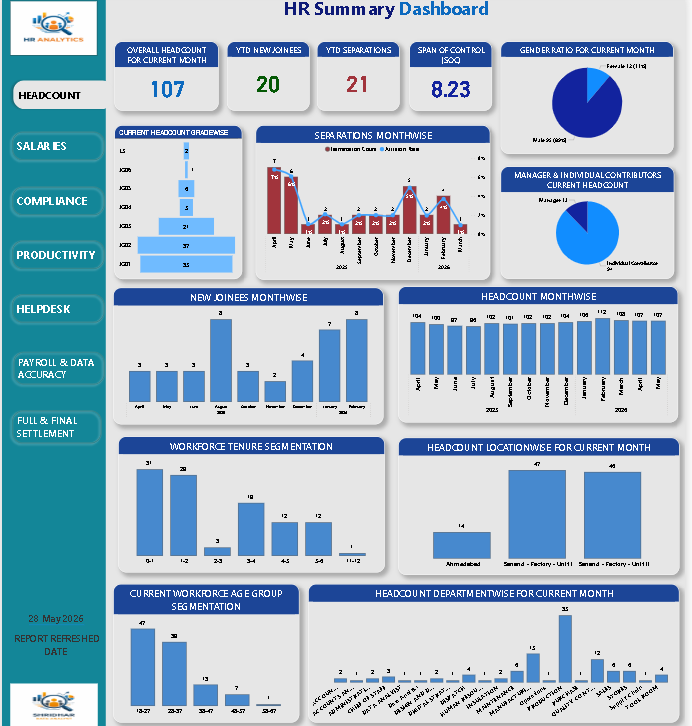

What the dashboard file says about the page in this screenshot:
{"tool":"powerbi","page":{"name":"Dashboard","canvas":[1650,1800],"ordinal":0},"visuals":[{"type":"shape","box":[0,0,250.4,1800.6],"z":0},{"type":"group","id":"g1","title":"Group 1","box":[267.8,113.9,1365,1642.2],"z":0,"group":"g4"},{"type":"card","title":"OVERALL HEADCOUNT FOR CURRENT MONTH","fields":{"Values":["Employee_Listing.Previous HC"]},"box":[271.5,114.1,251.3,166.9],"z":0,"group":"g1"},{"type":"actionButton","title":"Headcount AB","box":[17.2,199.5,259,87.6],"z":0,"group":"g2"},{"type":"card","title":"YTD NEW JOINEES","fields":{"Values":["Timeline.New Joiners Count"]},"box":[541.9,114.1,199.5,166.9],"z":1000,"group":"g1"},{"type":"actionButton","title":"Salaries IAB","box":[17.3,324.5,241.7,87.6],"z":1000,"group":"g3"},{"type":"card","title":"YTD SEPARATIONS","fields":{"Values":["Timeline.Termination Count"]},"box":[760.6,114.1,199.5,166.9],"z":2000,"group":"g1"},{"type":"actionButton","title":"Compliance IAB","box":[17.3,455.4,241.7,87.6],"z":2000,"group":"g3"},{"type":"group","id":"g2","title":"Active Buttons","box":[7.9,199.5,271.6,895.8],"z":3000},{"type":"lineClusteredColumnComboChart","title":"SEPARATIONS MONTHWISE","fields":{"Y":["Timeline.Termination Count"],"Y2":["Timeline.Attrition Rate"],"Category":["Timeline.Date.Variation.Date Hierarchy.Year","Timeline.Date.Variation.Date Hierarchy.Month"]},"box":[610.8,315.2,565.8,372.7],"z":3000,"group":"g1"},{"type":"actionButton","title":"Productivity IAB","box":[17.3,585.3,241.7,87.6],"z":3000,"group":"g3"},{"type":"clusteredColumnChart","title":"HEADCOUNT MONTHWISE","fields":{"Category":["Timeline.Date.Variation.Date Hierarchy.Year","Timeline.Date.Variation.Date Hierarchy.Month"],"Y":["Employee_Listing.Current HC1"]},"box":[956.5,705.5,675.2,328.2],"z":4000,"group":"g1"},{"type":"actionButton","title":"Data Audit IAB","box":[20.3,855.3,239.1,98.1],"z":4000,"group":"g3"},{"type":"actionButton","title":"Qry Mgt IAB","box":[17.3,714.2,241.7,87.6],"z":5000,"group":"g3"},{"type":"clusteredColumnChart","title":"HEADCOUNT LOCATIONWISE FOR CURRENT MONTH","fields":{"Category":["Employee_Listing.LOCATION"],"Y":["Employee_Listing.Previous HC"]},"box":[954.4,1069.8,678.4,331.3],"z":5000,"group":"g1"},{"type":"clusteredColumnChart","title":"NEW JOINEES MONTHWISE","fields":{"Y":["Timeline.New Joiners Count"],"Category":["Timeline.Date.Variation.Date Hierarchy.Year","Timeline.Date.Variation.Date Hierarchy.Month"]},"box":[267.8,706.9,652.3,329.5],"z":6000,"group":"g1"},{"type":"actionButton","title":"F&F IAB","box":[15.9,997,234.6,98.3],"z":6000,"group":"g3"},{"type":"pieChart","title":"GENDER RATIO FOR CURRENT MONTH","fields":{"Category":["Employee_Listing.GENDER"],"Y":["Employee_Listing.Previous HC"]},"box":[1203.5,113.9,416.9,271],"z":7000,"group":"g1"},{"type":"group","id":"g3","title":"Inactive Buttons","box":[15.9,199.5,243.5,895.8],"z":7000},{"type":"textbox","box":[630.6,0,595.2,78.1],"z":8000},{"type":"funnel","title":"CURRENT HEADCOUNT GRADEWISE","fields":{"Y":["Employee_Listing.Previous HC"],"Category":["GRADE SORT.GRADE"]},"box":[270.5,315.2,307.9,371.4],"z":8000,"group":"g1"},{"type":"clusteredColumnChart","title":"HEADCOUNT DEPARTMENTWISE FOR CURRENT MONTH","fields":{"Category":["Employee_Listing.DEPARTMENT"],"Y":["Employee_Listing.Previous HC"]},"box":[737.3,1421.7,895.5,334.4],"z":9000,"group":"g1"},{"type":"pieChart","title":"MANAGER & INDIVIDUAL CONTRIBUTORS CURRENT HEADCOUNT","fields":{"Category":["Employee_Listing.ManagerVsICPreviousMonth"],"Y":["Employee_Listing.Previous HC"]},"box":[1203.5,415.1,418.4,271],"z":10000,"group":"g1"},{"type":"group","id":"g4","title":"Headcount","box":[267.8,113.9,1365,1642.2],"z":11000},{"type":"clusteredColumnChart","title":"WORKFORCE TENURE SEGMENTATION","fields":{"Category":["TENURE SORT.TENURE"],"Y":["Employee_Listing.Previous HC"]},"box":[281.3,1067.4,642.8,328.2],"z":11000,"group":"g1"},{"type":"clusteredColumnChart","title":"CURRENT WORKFORCE AGE GROUP SEGMENTATION","fields":{"Category":["AGE SORT.Age"],"Y":["Employee_Listing.Previous HC"]},"box":[268.7,1421.7,448.6,334.4],"z":12000,"group":"g1"},{"type":"card","title":"SPAN OF CONTROL (SOC)","fields":{"Values":["Employee_Listing.Previous Span of Control"]},"box":[983.1,114.1,199.5,166.9],"z":13000,"group":"g1"},{"type":"image","box":[15.2,1658.6,221.1,118.9],"z":16000},{"type":"textbox","box":[16.2,1488.2,233.6,170.2],"z":17000},{"type":"image","box":[15.2,12.4,219.8,141],"z":29000}]}

Visuals, with their boxes on the page's 1650x1800 design canvas (x1, y1, x2, y2). These are canvas units, not pixel positions in the 692x726 screenshot, which may show the page scaled, cropped or inside an application window:
shape: bbox(0, 0, 250, 1801)
"Group 1" group: bbox(268, 114, 1633, 1756)
"OVERALL HEADCOUNT FOR CURRENT MONTH" card: bbox(272, 114, 523, 281)
"Headcount AB" actionButton: bbox(17, 200, 276, 287)
"YTD NEW JOINEES" card: bbox(542, 114, 741, 281)
"Salaries IAB" actionButton: bbox(17, 324, 259, 412)
"YTD SEPARATIONS" card: bbox(761, 114, 960, 281)
"Compliance IAB" actionButton: bbox(17, 455, 259, 543)
"Active Buttons" group: bbox(8, 200, 280, 1095)
"SEPARATIONS MONTHWISE" lineClusteredColumnComboChart: bbox(611, 315, 1177, 688)
"Productivity IAB" actionButton: bbox(17, 585, 259, 673)
"HEADCOUNT MONTHWISE" clusteredColumnChart: bbox(956, 706, 1632, 1034)
"Data Audit IAB" actionButton: bbox(20, 855, 259, 953)
"Qry Mgt IAB" actionButton: bbox(17, 714, 259, 802)
"HEADCOUNT LOCATIONWISE FOR CURRENT MONTH" clusteredColumnChart: bbox(954, 1070, 1633, 1401)
"NEW JOINEES MONTHWISE" clusteredColumnChart: bbox(268, 707, 920, 1036)
"F&F IAB" actionButton: bbox(16, 997, 250, 1095)
"GENDER RATIO FOR CURRENT MONTH" pieChart: bbox(1204, 114, 1620, 385)
"Inactive Buttons" group: bbox(16, 200, 259, 1095)
textbox: bbox(631, 0, 1226, 78)
"CURRENT HEADCOUNT GRADEWISE" funnel: bbox(270, 315, 578, 687)
"HEADCOUNT DEPARTMENTWISE FOR CURRENT MONTH" clusteredColumnChart: bbox(737, 1422, 1633, 1756)
"MANAGER & INDIVIDUAL CONTRIBUTORS CURRENT HEADCOUNT" pieChart: bbox(1204, 415, 1622, 686)
"Headcount" group: bbox(268, 114, 1633, 1756)
"WORKFORCE TENURE SEGMENTATION" clusteredColumnChart: bbox(281, 1067, 924, 1396)
"CURRENT WORKFORCE AGE GROUP SEGMENTATION" clusteredColumnChart: bbox(269, 1422, 717, 1756)
"SPAN OF CONTROL (SOC)" card: bbox(983, 114, 1183, 281)
image: bbox(15, 1659, 236, 1778)
textbox: bbox(16, 1488, 250, 1658)
image: bbox(15, 12, 235, 153)
